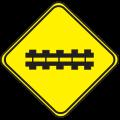Barrier Ahead: (8, 10, 116, 110)
